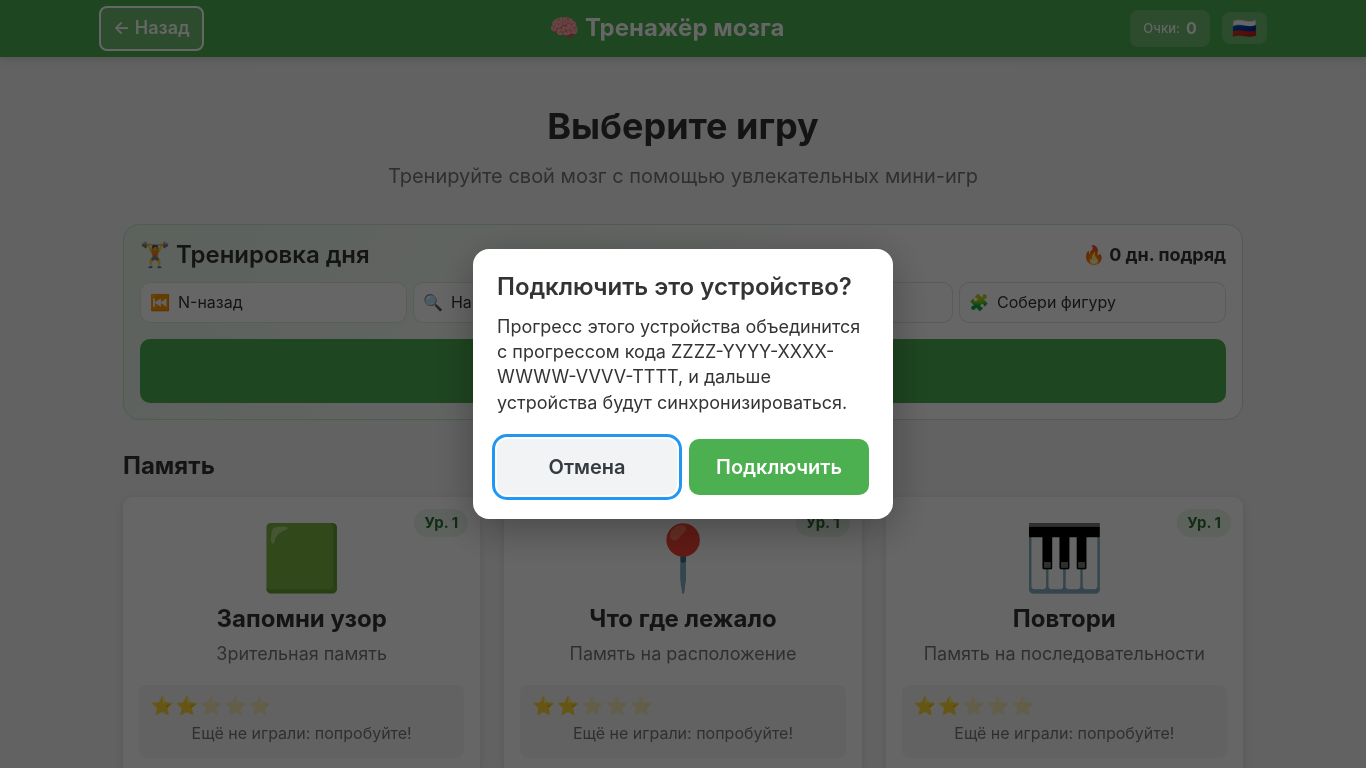
Scenario: cloud sync UI › connects this device from another device's link
Click the button "Подключить" at (779, 467), box top-left (689, 439), bottom-right (869, 495)
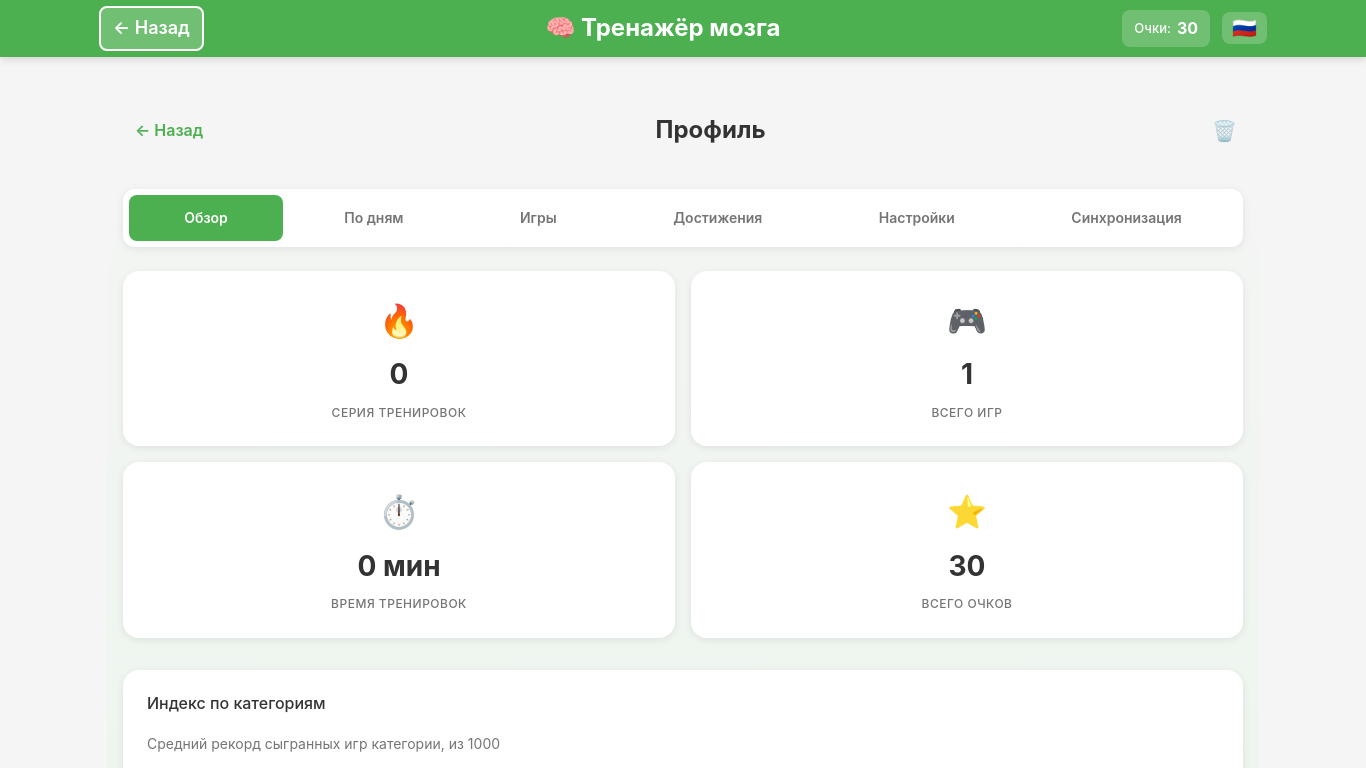
expect the heading "Профиль" is shown: met, box top-left (656, 115), bottom-right (766, 144)
